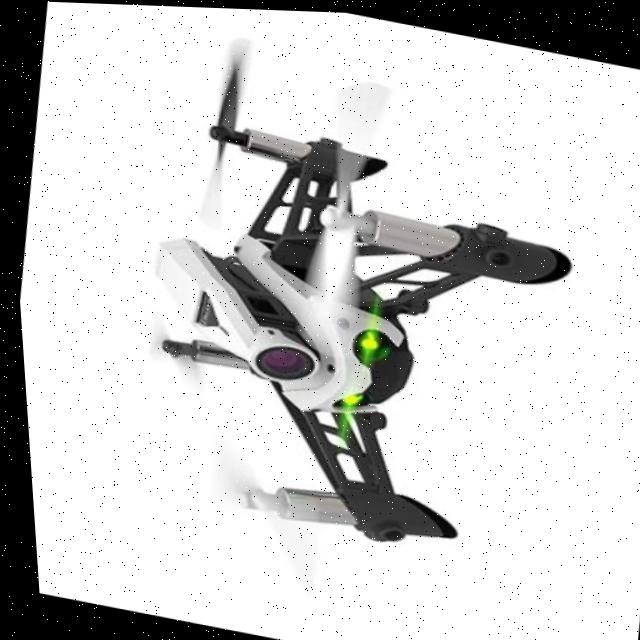drones: (29, 1, 622, 619)
